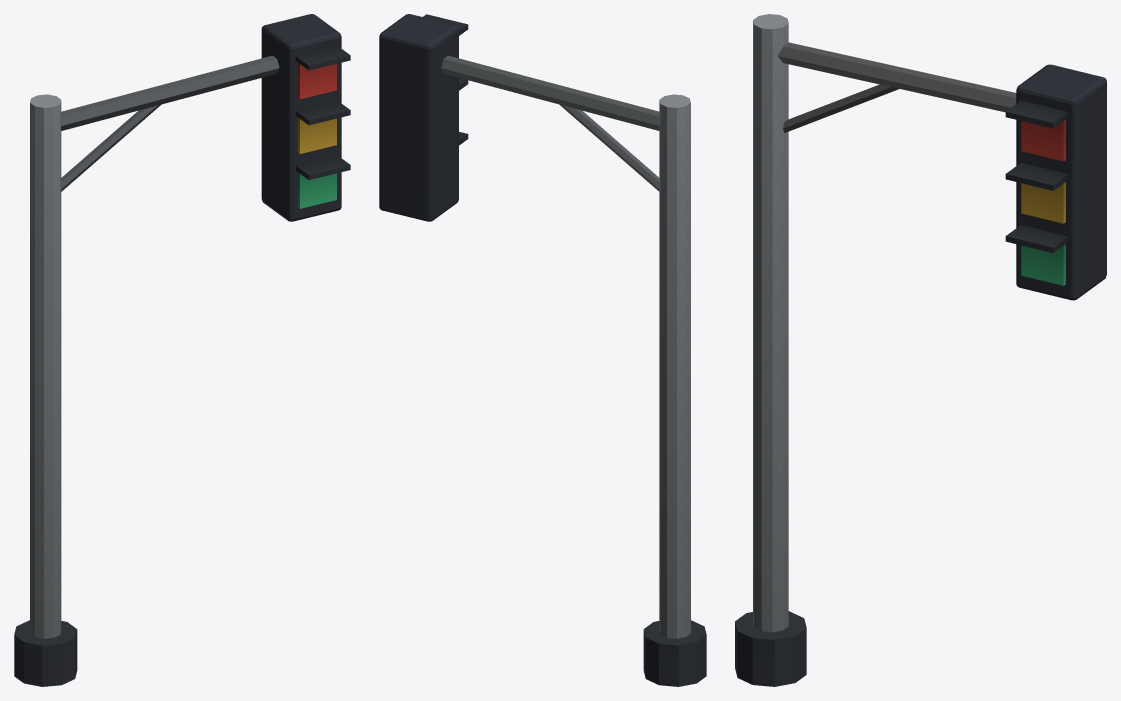
File: semaforo-CQnhVHo_.glb
3 views of the same model, side by side, from view 1: azimuth 30°, elevation 25°; view 2: azimuth 150°, elevation 25°; view 3: azimuth 330°, elevation 25° (orthographic). The views are drawn at different scales.
Visible parts, largest first — view 1: cilindro.001, pieza, rama, cilindro, rama.001, pieza.001, pieza.003, pieza.005, pieza.002, pieza.006, pieza.004; view 2: cilindro.001, pieza, rama, cilindro, rama.001; view 3: cilindro.001, pieza, rama, cilindro, pieza.001, pieza.005, pieza.003, rama.001, pieza.002, pieza.006, pieza.004.
Part boxes in pixels (<box>): cilindro.001: <box>30,94,61,638</box>; pieza: <box>261,14,341,221</box>; rama: <box>61,55,279,130</box>; cilindro: <box>14,620,77,686</box>; rama.001: <box>61,104,160,191</box>; pieza.001: <box>297,62,336,99</box>; pieza.003: <box>297,117,336,153</box>; pieza.005: <box>297,172,336,208</box>; pieza.002: <box>295,45,350,70</box>; pieza.006: <box>295,155,350,179</box>; pieza.004: <box>295,100,350,125</box>; cilindro.001: <box>659,94,690,638</box>; pieza: <box>379,14,458,221</box>; rama: <box>441,55,659,130</box>; cilindro: <box>643,620,706,686</box>; rama.001: <box>559,104,659,191</box>; cilindro.001: <box>753,14,788,632</box>; pieza: <box>1016,64,1106,300</box>; rama: <box>777,42,1016,112</box>; cilindro: <box>735,611,806,686</box>; pieza.001: <box>1021,120,1065,161</box>; pieza.005: <box>1021,244,1065,285</box>; pieza.003: <box>1021,182,1065,223</box>; rama.001: <box>782,84,898,132</box>; pieza.002: <box>1005,100,1068,128</box>; pieza.006: <box>1005,225,1068,252</box>; pieza.004: <box>1005,163,1068,190</box>.
Bounding box in the file's own units: 2.66 × 4.78 × 0.66.
